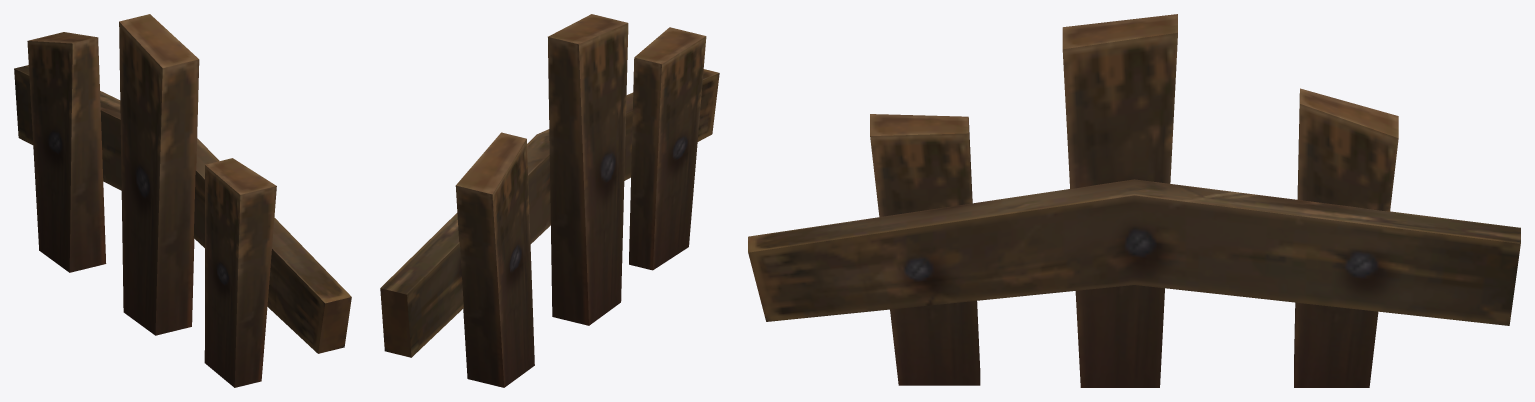
The model's file is building_yewai_weilan.FBX.
The picture shows the model from 3 angles, left to right: view 1: azimuth 30°, elevation 25°; view 2: azimuth 150°, elevation 25°; view 3: azimuth 270°, elevation 25°; orthographic projection. The views are drawn at different scales.
Visible parts, largest first — view 1: building_yewai_weilan; view 2: building_yewai_weilan; view 3: building_yewai_weilan.
Part boxes in pixels (x1,y1,x2,y2): building_yewai_weilan: (14,14,351,387); building_yewai_weilan: (380,14,719,387); building_yewai_weilan: (748,14,1520,387).
Bounding box in the file's own units: 0.2806 × 1.22 × 2.42.
